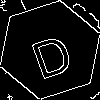D: (25, 25, 76, 80)
